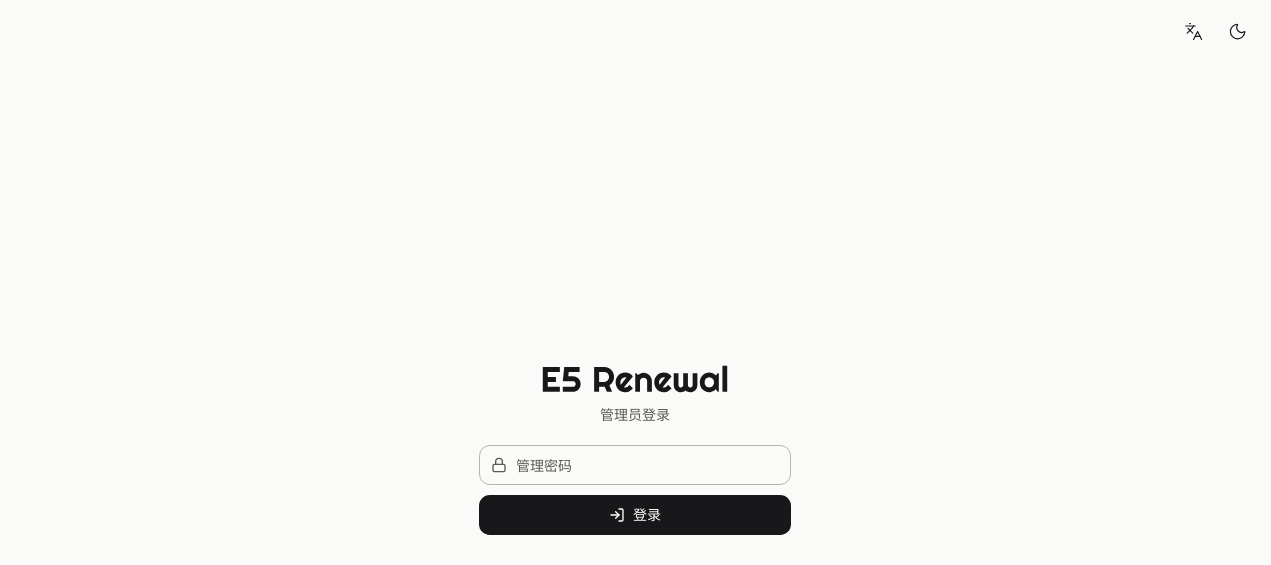
it: management interface › explains the login limit and allows a later successful retry
The image size is (1271, 565).
In the password field labelled "管理密码": (635,465) [479,445,791,485], type "an-administrator-password"
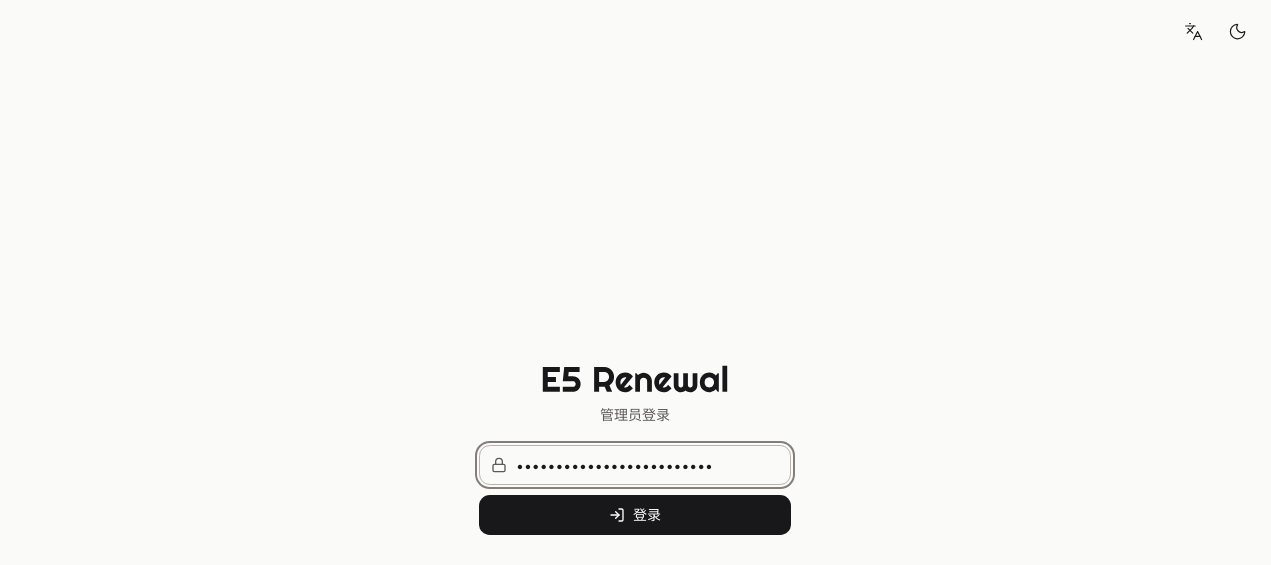
Click the button "登录": (635,515) [479,495,791,535]
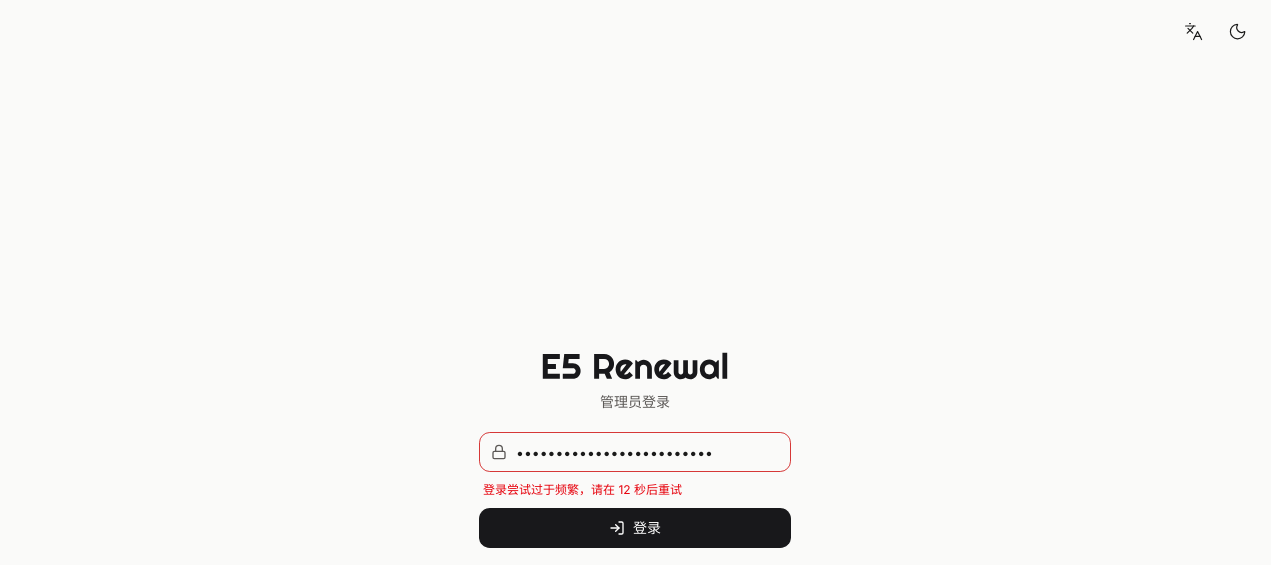
Result: the message reads "登录尝试过于频繁，请在 12 秒后重试" at [483,482,682,497]
Click the button "登录": (635,528) [479,508,791,548]
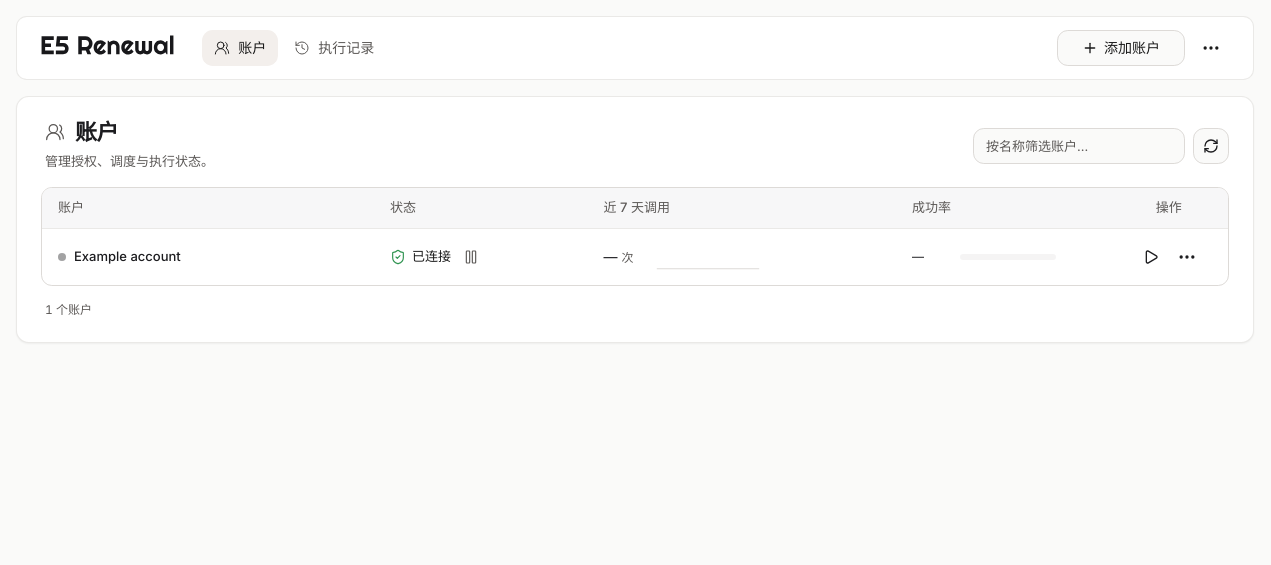
Result: the heading "账户" is shown at [45,119,118,145]
